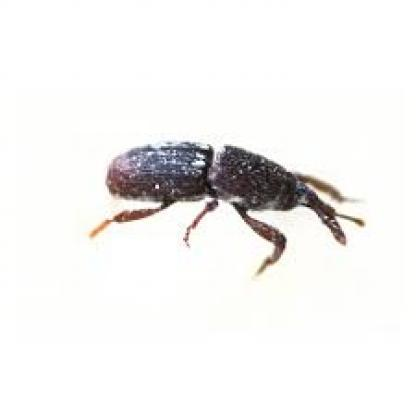rice-bug: (97, 138, 348, 266)
